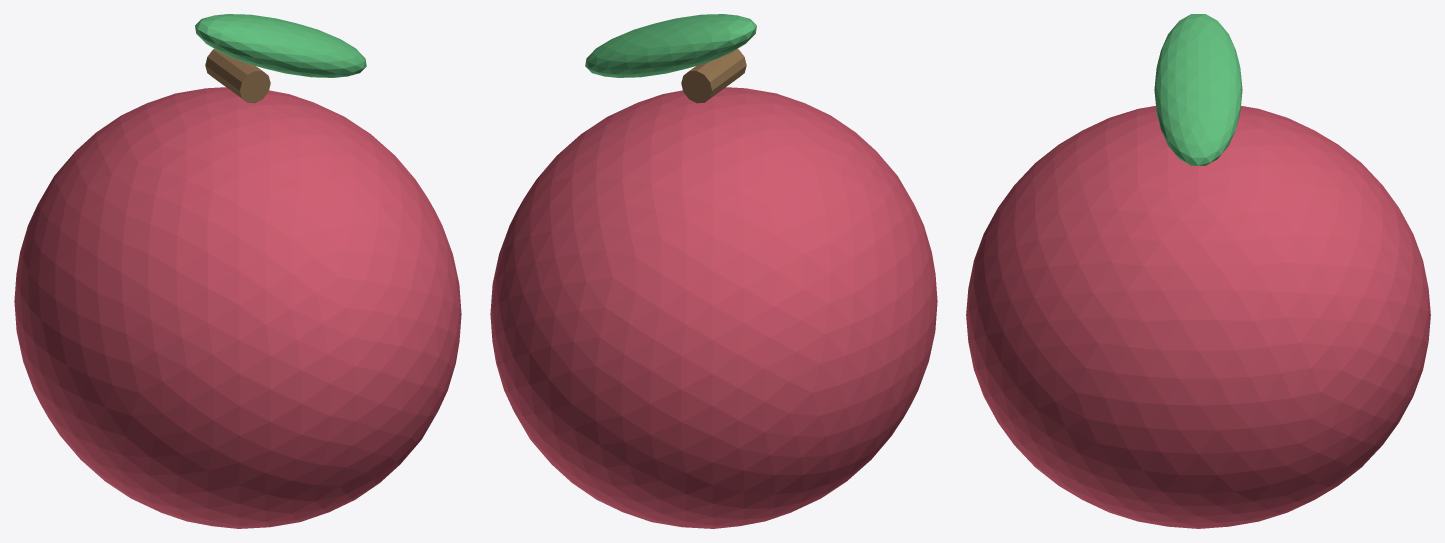
File: apple_half_left.glb
3 views of the same model, side by side, from view 1: azimuth 30°, elevation 25°; view 2: azimuth 150°, elevation 25°; view 3: azimuth 270°, elevation 25° (orthographic). The views are drawn at different scales.
Parts seen in each view (by area): view 1: apple, leaf, stem; view 2: apple, leaf, stem; view 3: apple, leaf.
Part boxes in pixels (x1,y1,x2,y2): apple: (14,87,461,528); leaf: (195,14,366,77); stem: (205,49,270,103); apple: (490,87,937,528); leaf: (585,14,756,77); stem: (681,49,746,103); apple: (966,106,1430,528); leaf: (1154,14,1242,165).
Size of the model in its own units: 0.2208 by 0.2737 by 0.24.
